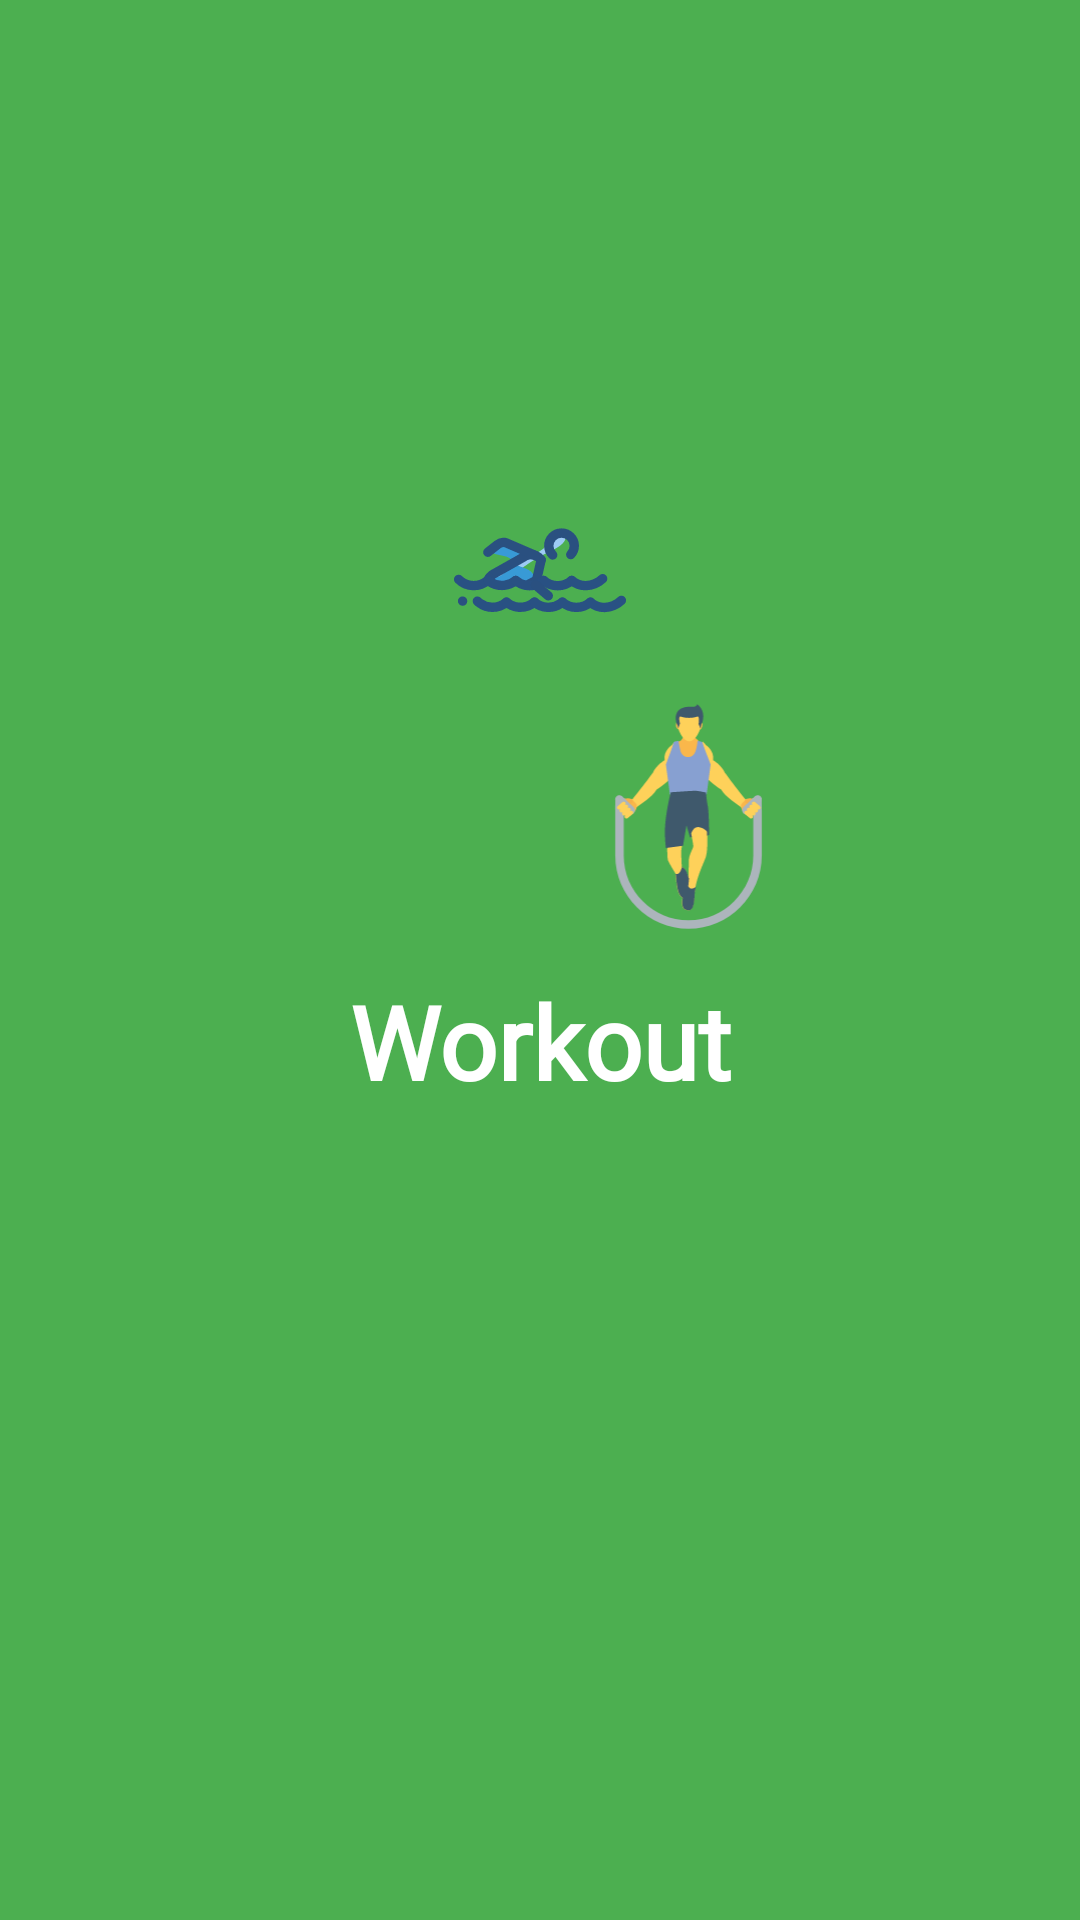

Icons on this 1080 x 1920 Android screen, each with its box as (x1, y1, x2, y2):
jump: (615, 705, 762, 929)
swim: (454, 528, 626, 612)
